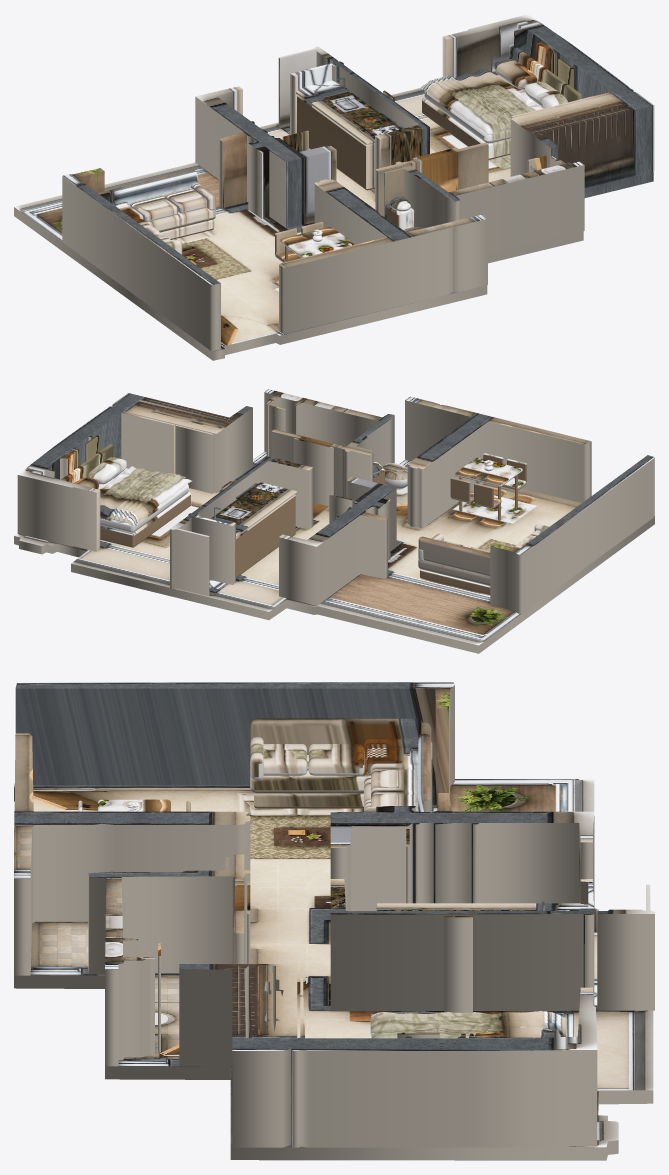
Rendered from p13-09-u02-2110-image-model.glb.
3 renders of one model, top to bottom at view 1: azimuth 30°, elevation 25°; view 2: azimuth 150°, elevation 25°; view 3: azimuth 270°, elevation 25°, orthographic. The views are drawn at different scales.
Visible parts, largest first — view 1: Partition walls, Apartment floor, Kitchen cabinets, Draped bed linen, Stone worktop, Sofa back.001, Draped bed linen.001, Walnut upholstered base, Marble dining top, Upholstered headboard, Piped mattress, Upholstered sofa frame.001 (+6 smaller); view 2: Partition walls, Apartment floor, Kitchen cabinets, Draped bed linen, Sofa back.001, Walnut upholstered base, Stone worktop, Draped bed linen.001, Marble dining top, Piped mattress, Upholstered sofa frame.001, Sofa plinth.001 (+5 smaller); view 3: Partition walls, Apartment floor, Sofa back, Draped bed linen.001, Upholstered sofa frame, Seat cushion.001, Sofa plinth, Stone worktop, Draped bed linen, Seat cushion, Seat cushion.004, Sofa back.001 (+2 smaller).
Boxes of the visible parts, bbox=[...] form: Partition walls: bbox=[62, 14, 654, 350]; Apartment floor: bbox=[14, 88, 653, 360]; Kitchen cabinets: bbox=[297, 95, 374, 190]; Draped bed linen: bbox=[421, 69, 542, 134]; Stone worktop: bbox=[296, 80, 379, 144]; Sofa back.001: bbox=[98, 170, 197, 205]; Draped bed linen.001: bbox=[428, 75, 510, 132]; Walnut upholstered base: bbox=[422, 98, 510, 159]; Marble dining top: bbox=[279, 226, 354, 257]; Upholstered headboard: bbox=[509, 44, 581, 102]; Piped mattress: bbox=[424, 71, 543, 143]; Upholstered sofa frame.001: bbox=[147, 207, 215, 232]; Partition walls: bbox=[17, 389, 654, 613]; Apartment floor: bbox=[14, 451, 654, 653]; Kitchen cabinets: bbox=[236, 494, 295, 577]; Draped bed linen: bbox=[100, 466, 191, 526]; Sofa back.001: bbox=[418, 536, 490, 575]; Walnut upholstered base: bbox=[100, 492, 191, 547]; Stone worktop: bbox=[210, 482, 296, 537]; Draped bed linen.001: bbox=[108, 472, 186, 522]; Marble dining top: bbox=[454, 457, 522, 486]; Piped mattress: bbox=[98, 468, 188, 532]; Upholstered sofa frame.001: bbox=[418, 560, 490, 585]; Sofa plinth.001: bbox=[420, 569, 490, 594]; Partition walls: bbox=[14, 682, 654, 1147]; Apartment floor: bbox=[14, 779, 653, 1160]; Sofa back: bbox=[250, 718, 422, 754]; Draped bed linen.001: bbox=[370, 1011, 566, 1036]; Upholstered sofa frame: bbox=[250, 754, 368, 793]; Seat cushion.001: bbox=[309, 744, 364, 775]; Sofa plinth: bbox=[254, 793, 363, 808]; Stone worktop: bbox=[376, 903, 588, 910]; Draped bed linen: bbox=[371, 1012, 565, 1038]; Seat cushion: bbox=[263, 744, 306, 775]; Seat cushion.004: bbox=[371, 769, 418, 797]; Sofa back.001: bbox=[418, 722, 431, 811].
Size of the model in its own units: 9.33 by 1.3 by 6.85.
13 materials, 3 textured.
